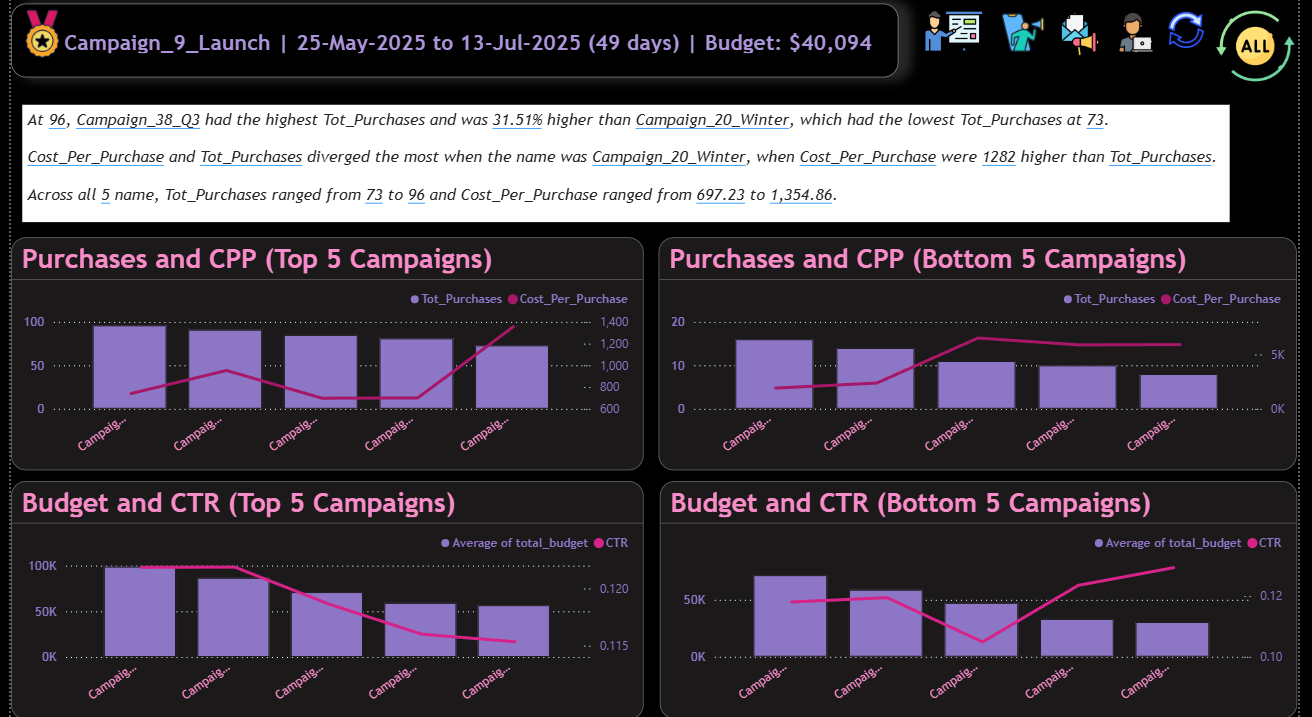

The dashboard page shown, as its layout file describes it:
{"tool":"powerbi","page":{"name":"Top Campaigns","canvas":[1280,720],"ordinal":1},"visuals":[{"type":"cardVisual","title":"TOP CAMPAIGN","fields":{"Data":["Measure Table.Top Campaign Full Details"]},"box":[0,7.3,882.9,73.4],"z":0},{"type":"lineStackedColumnComboChart","title":"Purchases and CPP (Top 5 Campaigns)","fields":{"Category":["campaigns.name"],"Y":["Measure Table.Tot_Purchases"],"Y2":["Measure Table.Cost_Per_Purchase"]},"box":[0,240.1,629.8,231.9],"z":1000},{"type":"lineStackedColumnComboChart","title":"Purchases and CPP (Bottom 5 Campaigns)","fields":{"Category":["campaigns.name"],"Y":["Measure Table.Tot_Purchases"],"Y2":["Measure Table.Cost_Per_Purchase"]},"box":[644.9,240.1,635.3,231.9],"z":2000},{"type":"image","box":[904.9,638,84.4,69.5],"z":3000},{"type":"lineStackedColumnComboChart","title":"Budget and CTR (Bottom 5 Campaigns)","fields":{"Category":["campaigns.name"],"Y":["Avg(campaigns.total_budget)"],"Y2":["Measure Table.CTR"]},"box":[645.5,482.9,634.3,237.1],"z":4000},{"type":"lineStackedColumnComboChart","title":"Budget and CTR (Top 5 Campaigns)","fields":{"Category":["campaigns.name"],"Y":["Avg(campaigns.total_budget)"],"Y2":["Measure Table.CTR"]},"box":[0,483,629.8,237.4],"z":5000},{"type":"textbox","box":[11.6,108.5,1201.6,117.1],"z":6000},{"type":"actionButton","box":[12.1,13.5,99.6,70],"z":7000},{"type":"image","box":[1151.9,6.1,35.5,55],"z":9000},{"type":"image","box":[1196.7,5,83.3,89.6],"z":10000},{"type":"image","box":[983.2,11,48.9,50.1],"z":11000},{"type":"image","box":[1044.3,11,46.5,52.6],"z":12000},{"type":"image","box":[1099.3,1.2,40.4,69.7],"z":13000},{"type":"image","box":[903.7,11,70.9,46.5],"z":14000},{"type":"actionButton","box":[929.7,408.4,64.5,45.9],"z":15000}]}

Visuals, with their boxes in screenshot pixels (x1, y1, x2, y2), scaled from the page's 1280x720 canvas onto the 1312x717 screenshot:
"TOP CAMPAIGN" cardVisual: left=0, top=7, right=905, bottom=80
"Purchases and CPP (Top 5 Campaigns)" lineStackedColumnComboChart: left=0, top=239, right=646, bottom=470
"Purchases and CPP (Bottom 5 Campaigns)" lineStackedColumnComboChart: left=661, top=239, right=1311, bottom=470
image: left=928, top=635, right=1014, bottom=705
"Budget and CTR (Bottom 5 Campaigns)" lineStackedColumnComboChart: left=662, top=481, right=1311, bottom=716
"Budget and CTR (Top 5 Campaigns)" lineStackedColumnComboChart: left=0, top=481, right=646, bottom=716
textbox: left=12, top=108, right=1244, bottom=225
actionButton: left=12, top=13, right=114, bottom=83
image: left=1181, top=6, right=1217, bottom=61
image: left=1227, top=5, right=1311, bottom=94
image: left=1008, top=11, right=1058, bottom=61
image: left=1070, top=11, right=1118, bottom=63
image: left=1127, top=1, right=1168, bottom=71
image: left=926, top=11, right=999, bottom=57
actionButton: left=953, top=407, right=1019, bottom=452
